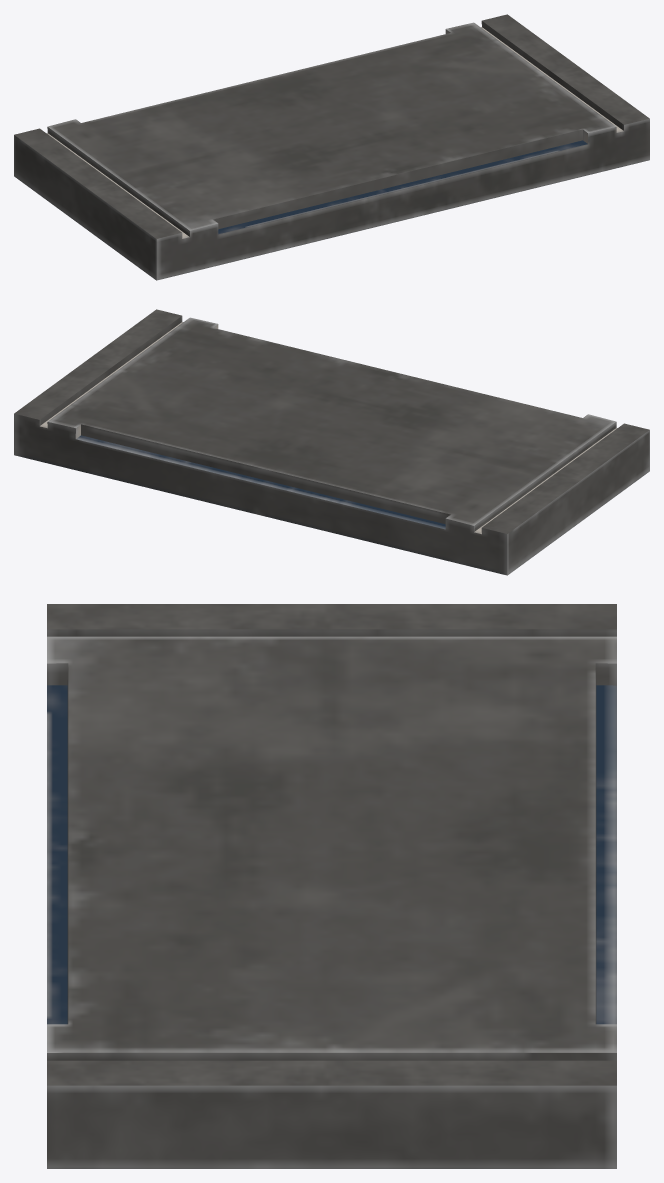
File: FUT0510038.fbx
The picture shows the model from 3 angles, top to bottom: view 1: azimuth 30°, elevation 25°; view 2: azimuth 150°, elevation 25°; view 3: azimuth 270°, elevation 25°; orthographic projection. The views are drawn at different scales.
Visible parts, largest first — view 1: smFUT0510038; view 2: smFUT0510038; view 3: smFUT0510038.
Boxes of the visible parts, x1=… form: smFUT0510038: x1=14, y1=14, x2=649, y2=280; smFUT0510038: x1=14, y1=309, x2=649, y2=575; smFUT0510038: x1=47, y1=604, x2=616, y2=1168.
Bounding box in the file's own units: 168 × 13.68 × 83.98.
1 material, 1 textured.
